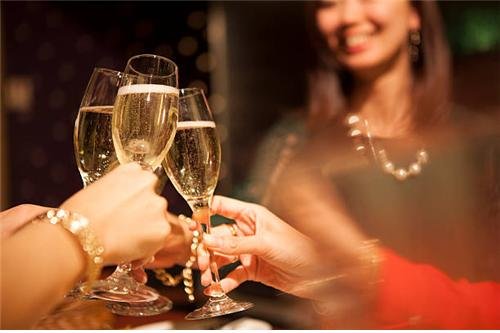alcohol: (78, 54, 178, 302), (156, 87, 256, 322), (72, 65, 147, 191)
